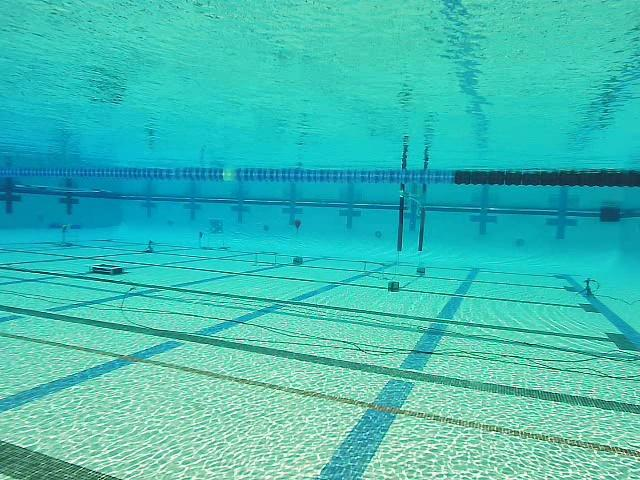dropper: (86, 260, 128, 276)
gate_leg_l: (396, 182, 406, 250)
gate_leg_r: (418, 208, 425, 251)
table: (46, 219, 84, 248)
torpedo: (206, 217, 225, 236)
